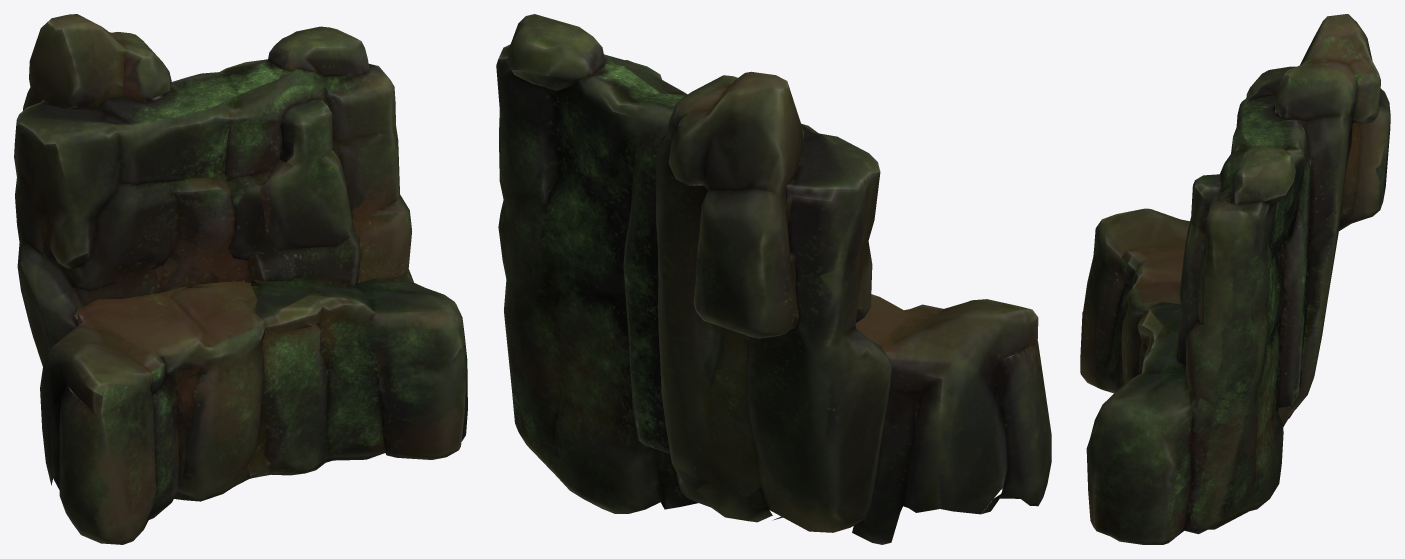
File: Wall2.fbx
3 views of the same model, side by side, from view 1: azimuth 30°, elevation 25°; view 2: azimuth 150°, elevation 25°; view 3: azimuth 270°, elevation 25° (orthographic). The views are drawn at different scales.
Parts seen in each view (by area): view 1: Wall 1.001; view 2: Wall 1.001; view 3: Wall 1.001.
Part boxes in pixels (bbox=[...]): Wall 1.001: bbox=[14, 14, 467, 544]; Wall 1.001: bbox=[496, 14, 1051, 544]; Wall 1.001: bbox=[1080, 14, 1390, 544].
Size of the model in its own units: 44.28 by 43.09 by 30.23.
Materials: 1 (1 with a texture image).
